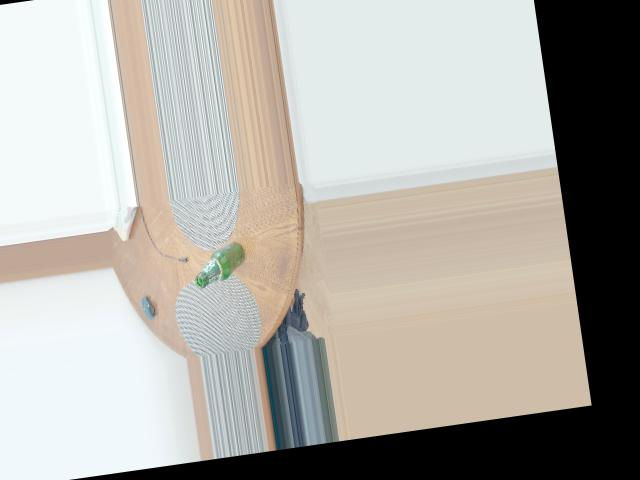beer: (190, 238, 249, 289)
